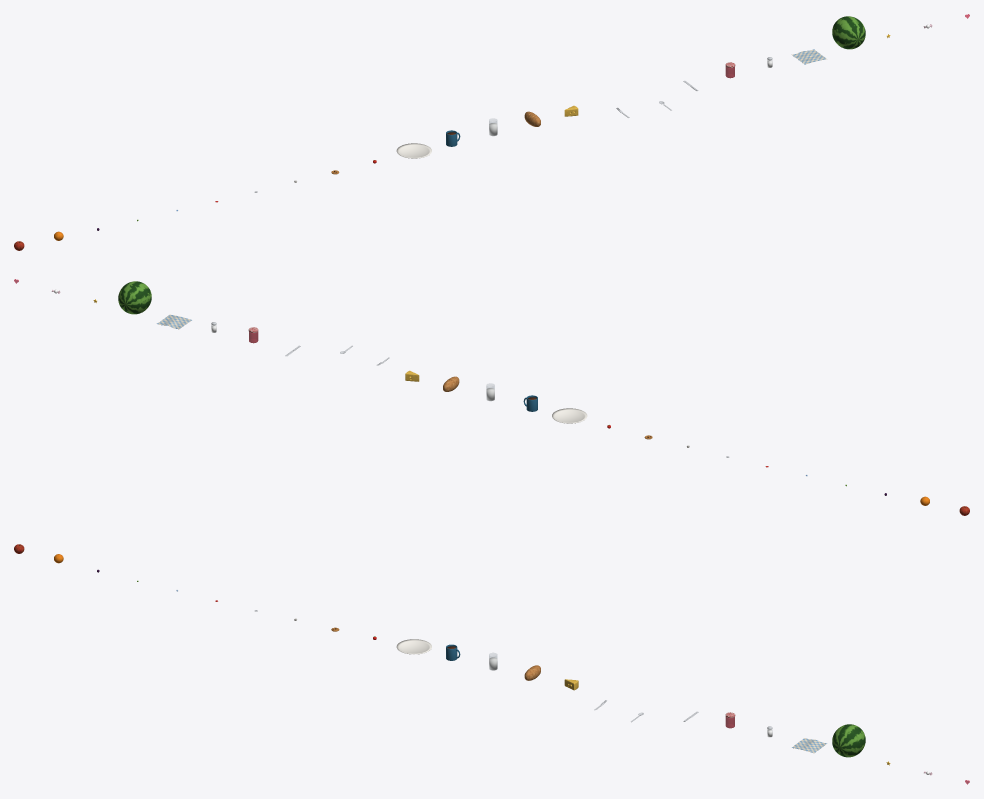
The model's file is props.glb.
3 renders of one model, top to bottom at view 1: azimuth 30°, elevation 25°; view 2: azimuth 150°, elevation 25°; view 3: azimuth 330°, elevation 25°, orthographic.
Visible parts, largest first — view 1: watermelon; view 2: watermelon; view 3: watermelon.
Part boxes in pixels (x1,y1,x2,y2): watermelon: [832, 16, 865, 49]; watermelon: [118, 281, 151, 314]; watermelon: [832, 724, 865, 757].
Size of the model in its own units: 338 by 10 by 17.98.
Materials: 35 (10 with a texture image).
